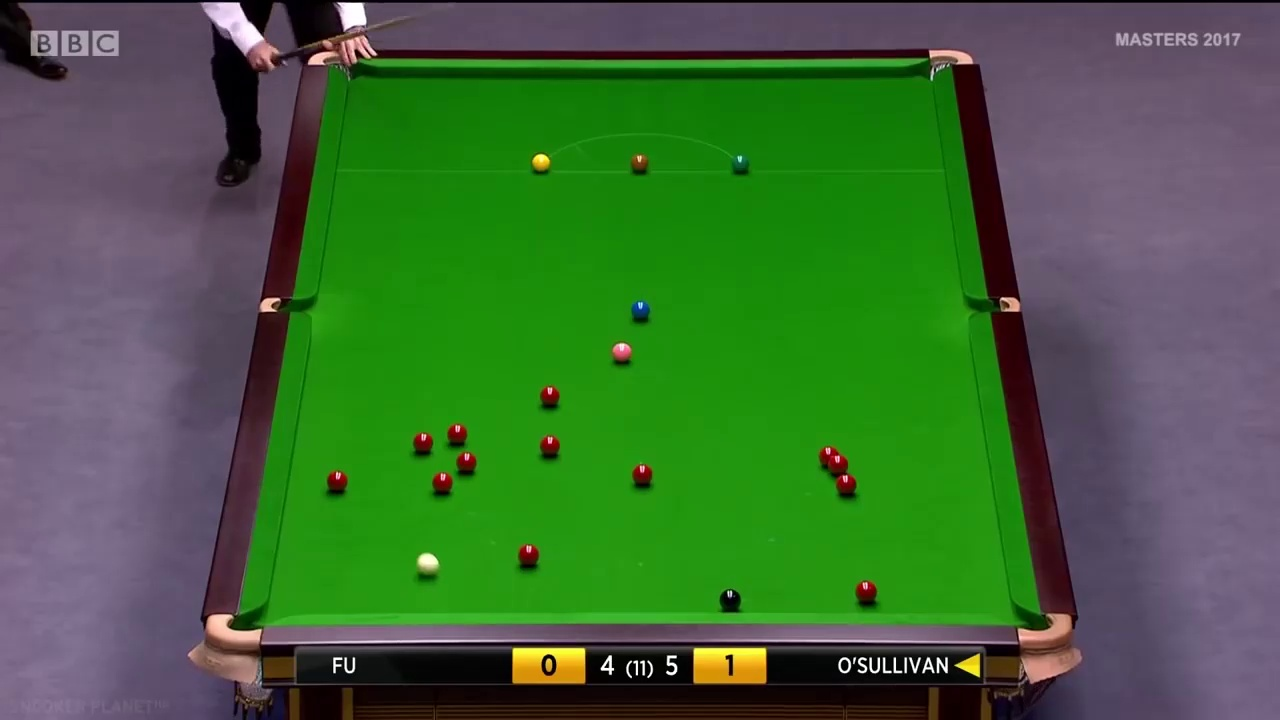ball: (629, 299, 652, 324), (834, 471, 856, 497), (325, 470, 349, 493), (529, 151, 553, 173), (628, 153, 652, 175), (856, 579, 878, 603), (517, 543, 540, 565), (430, 471, 452, 493), (633, 463, 654, 486), (538, 384, 562, 404), (411, 431, 433, 452), (538, 434, 561, 454), (456, 451, 476, 473), (729, 153, 749, 174), (612, 343, 631, 363)
